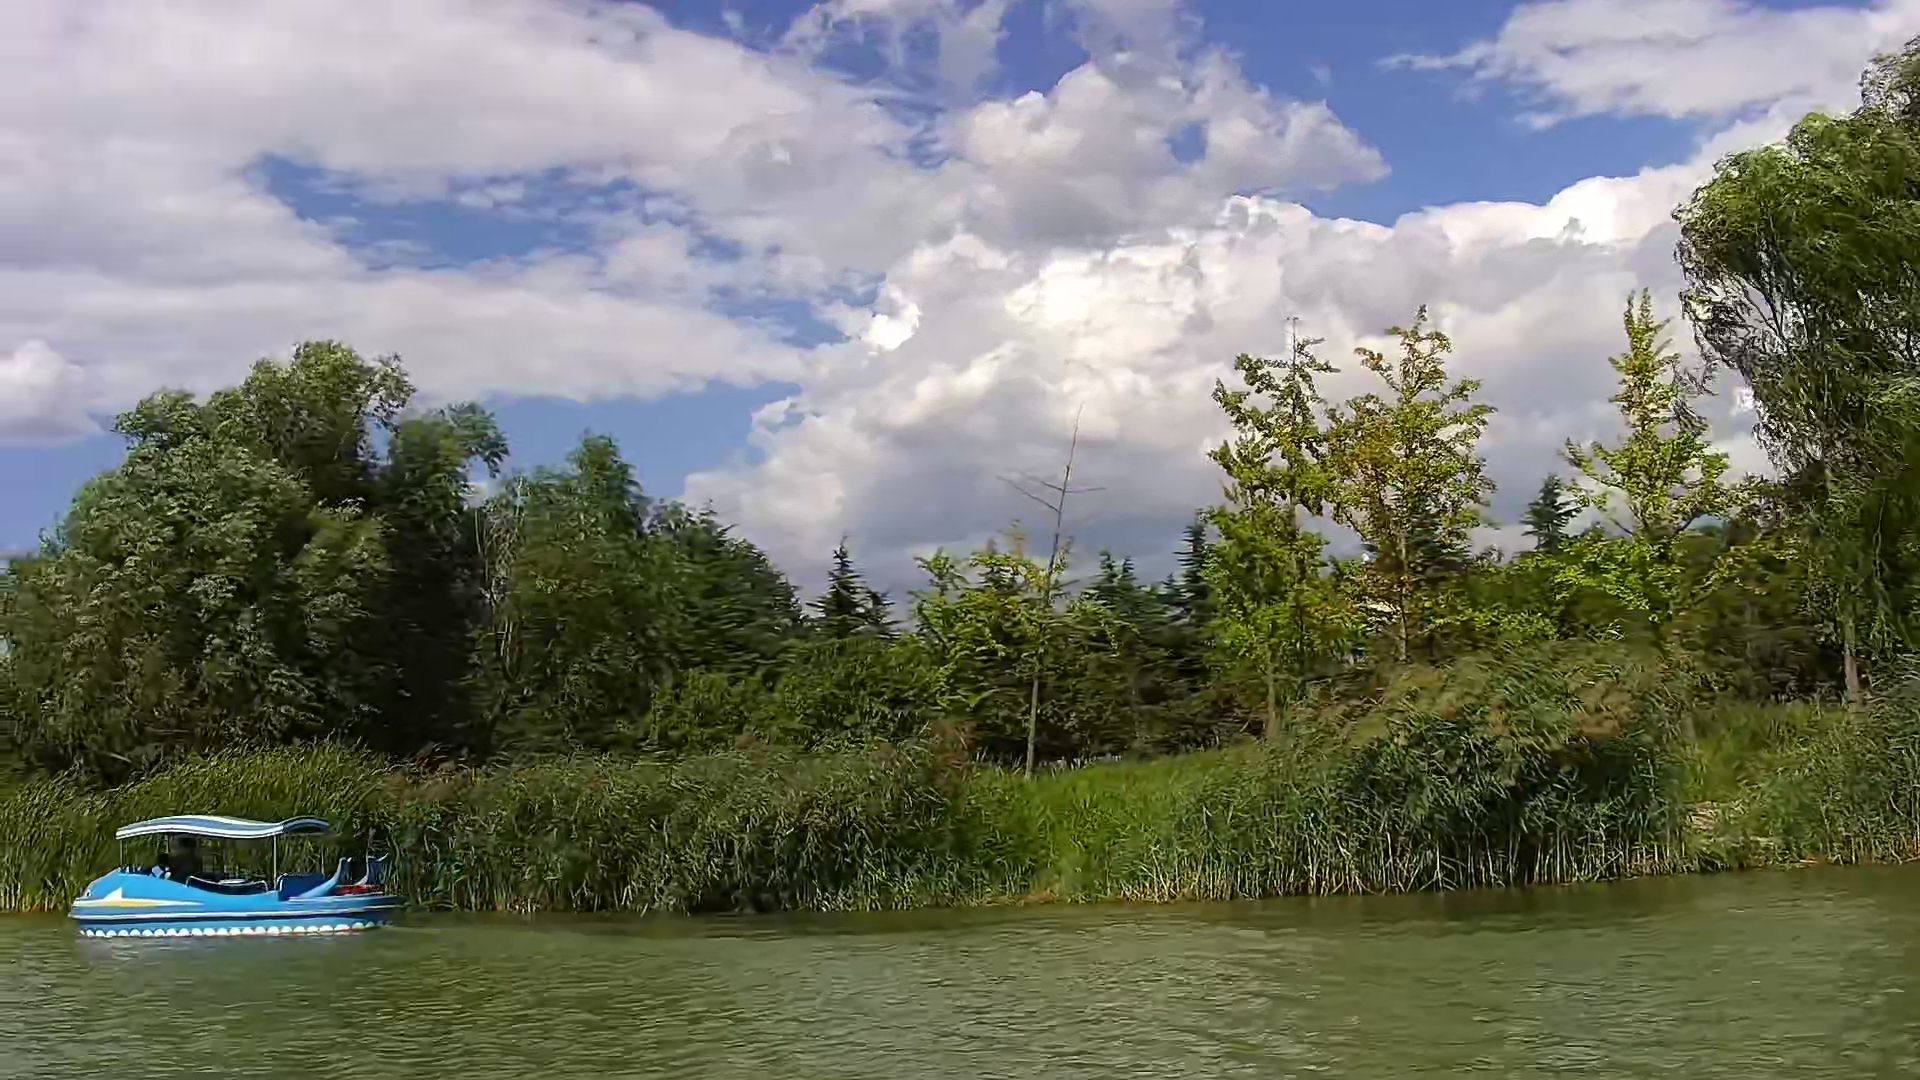boat: (67, 809, 388, 931)
person: (166, 837, 206, 904)
